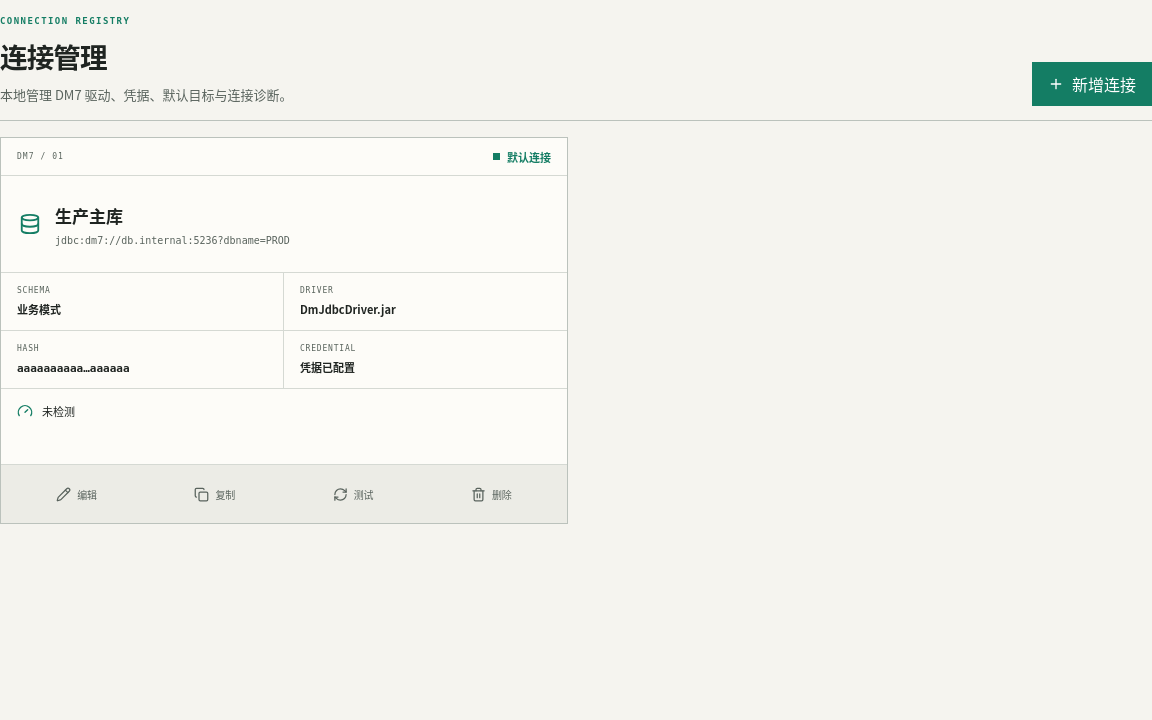
Test: ConnectionsPage › keeps mutation errors inside the drawer with focus and correlation disclosure
The width and height of the screenshot is (1152, 720).
Check: the heading "生产主库" is shown, box [55,203,123,228]
Click the button with aria-label "编辑生产主库". click: x=77, y=494
box: [8,472,145,516]
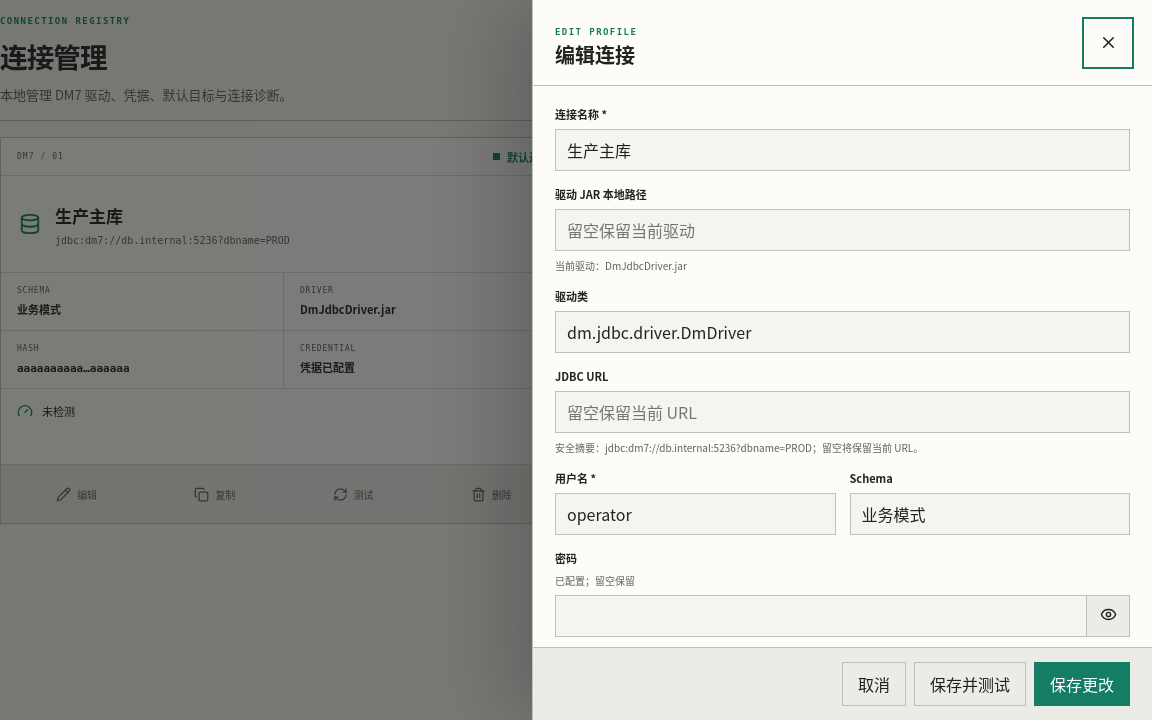
Replace the text in the field labelled "连接名称 *" with "仍保留的名称". click: x=842, y=150
box: [555,129,1130,171]
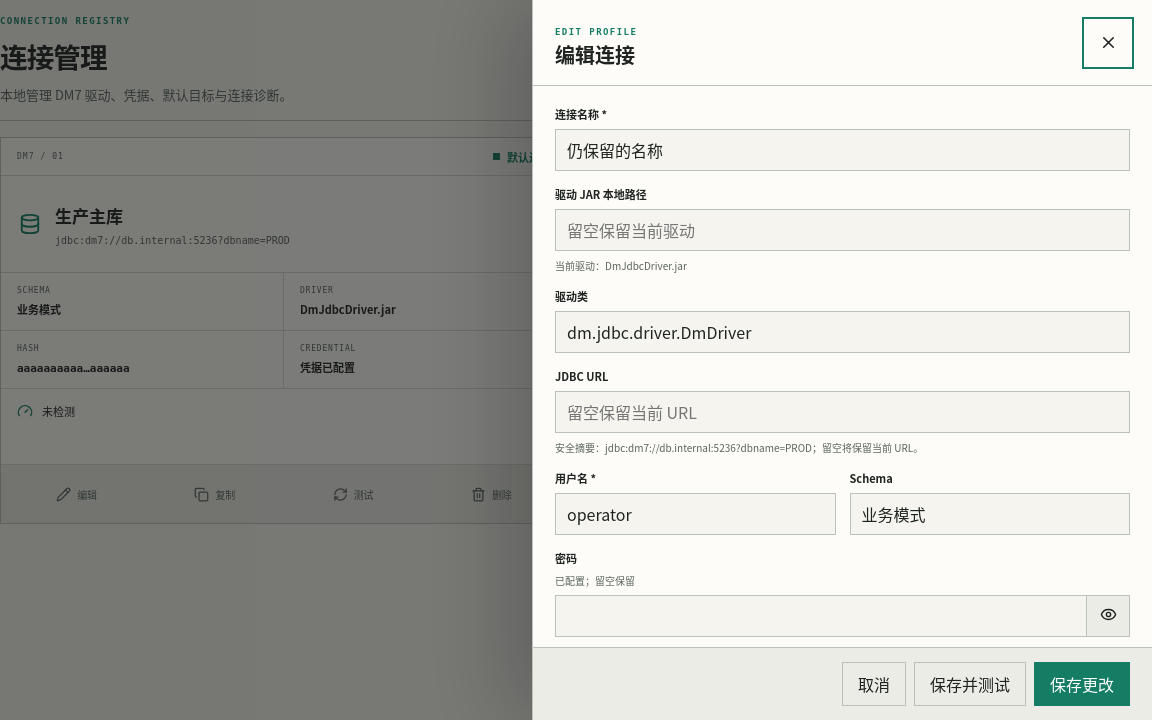
Click the button "保存更改". click: x=1082, y=684
box: [1034,662,1130,706]
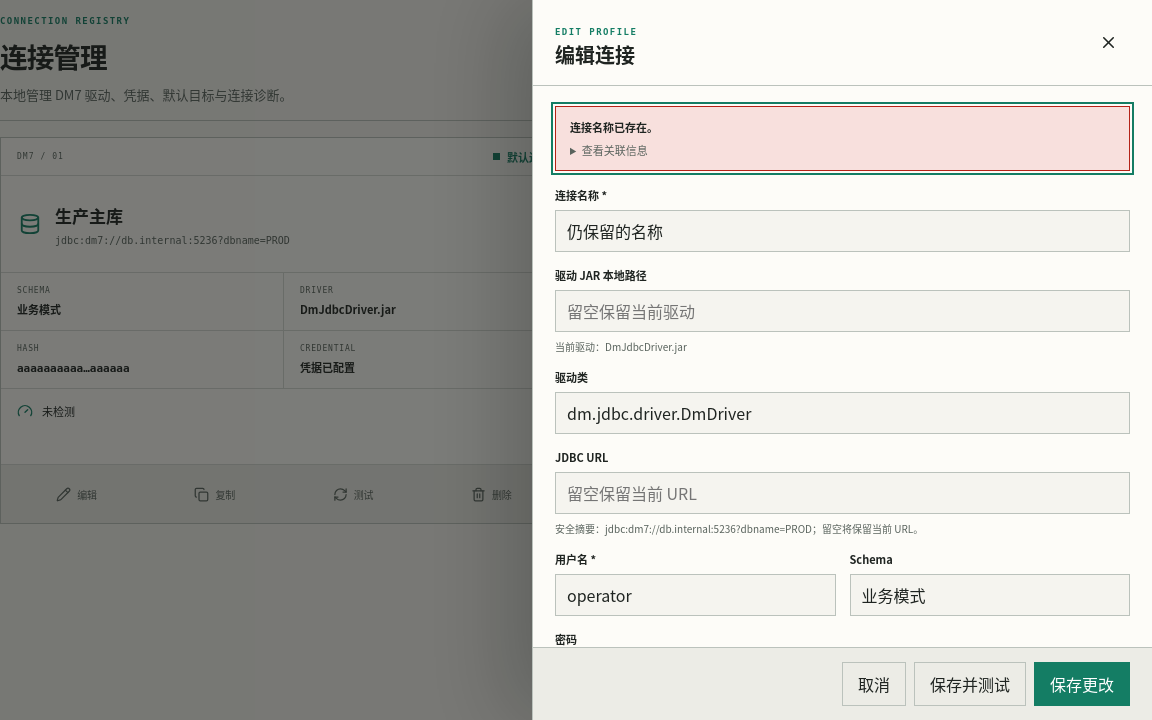
Check: the dialog is shown, box [532,0,1151,719]
Check: the message shows "连接名称已存在", box [570,119,658,135]
